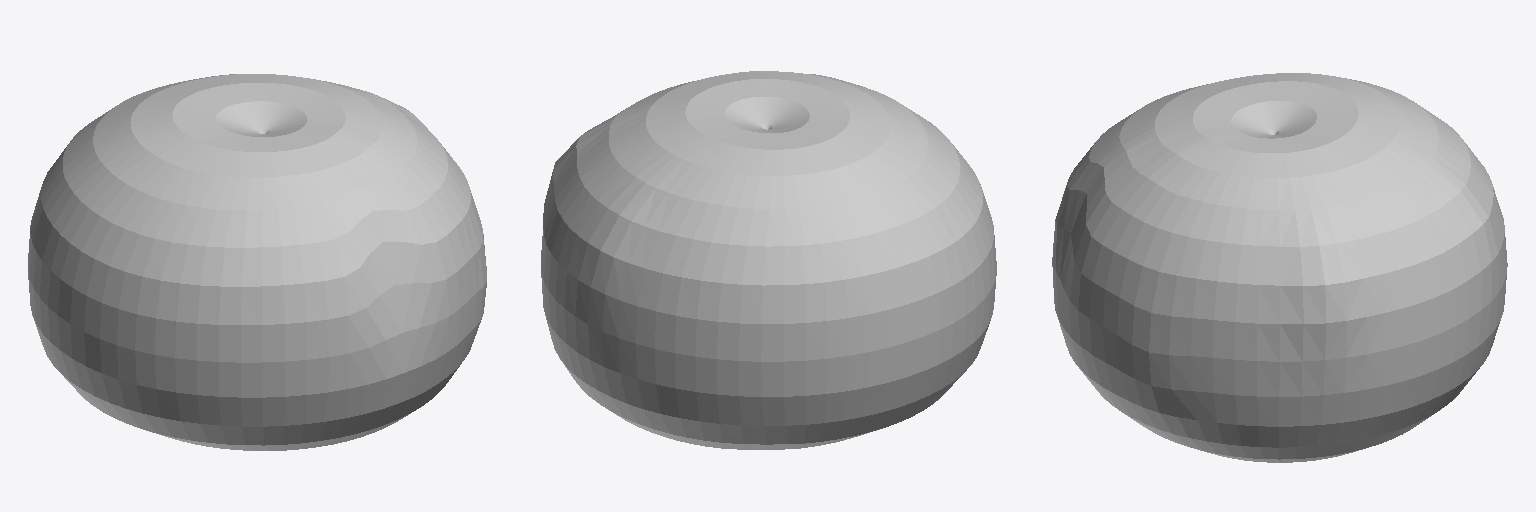
The model's file is Bola.obj.
3 renders of one model, left to right at view 1: azimuth 30°, elevation 25°; view 2: azimuth 150°, elevation 25°; view 3: azimuth 270°, elevation 25°, orthographic.
Visible parts, largest first — view 1: Berlin.001; view 2: Berlin.001; view 3: Berlin.001.
Boxes of the visible parts, <box> form: Berlin.001: <box>28,74,486,450</box>; Berlin.001: <box>541,71,996,449</box>; Berlin.001: <box>1052,73,1507,462</box>.
Size of the model in its own units: 0.1181 by 0.0802 by 0.1174.